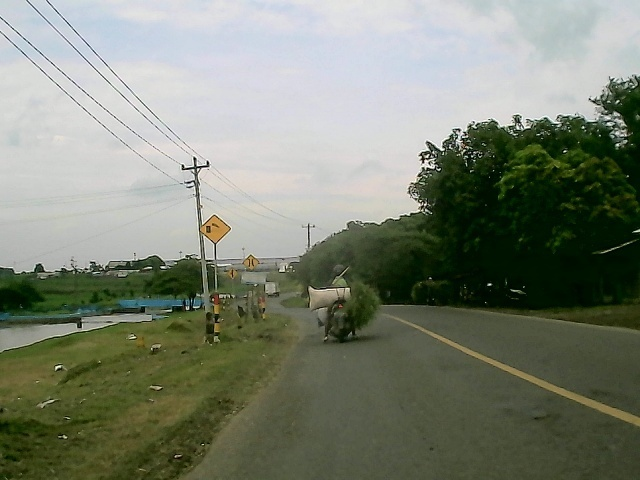Jembatan: (241, 254, 261, 271)
Peringatan tepi air: (198, 211, 233, 249)
